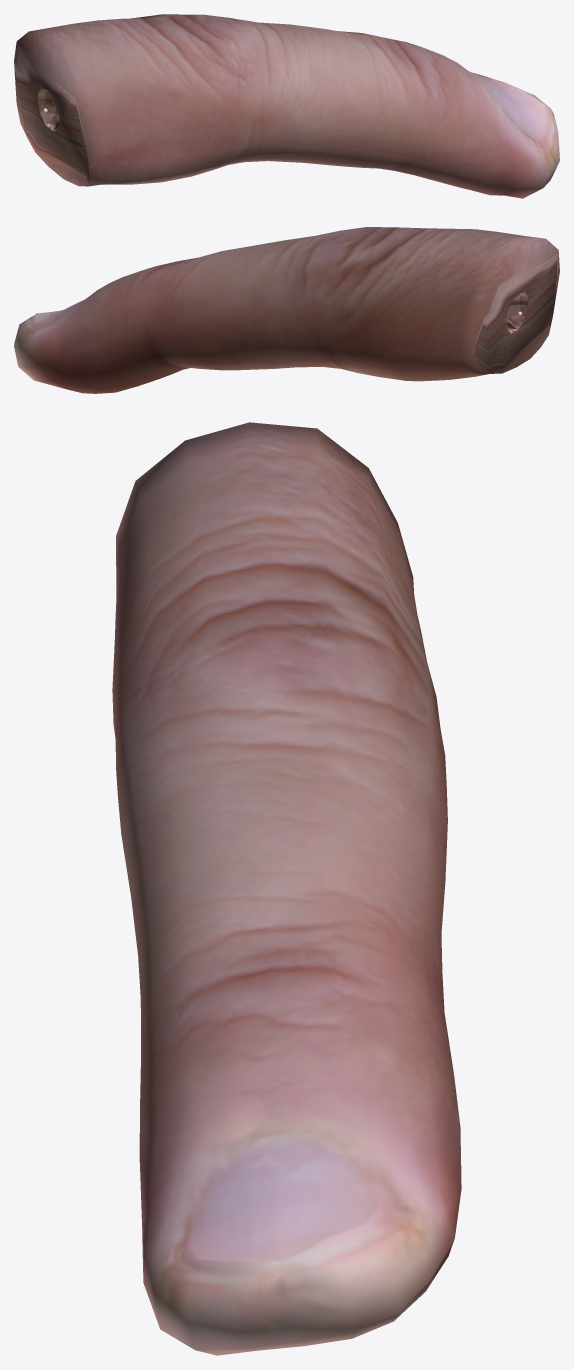
The picture shows the model from 3 angles, top to bottom: view 1: azimuth 30°, elevation 25°; view 2: azimuth 150°, elevation 25°; view 3: azimuth 270°, elevation 25°; orthographic projection. The views are drawn at different scales.
Visible parts, largest first — view 1: finger3; view 2: finger3; view 3: finger3.
Part boxes in pixels (x1,y1,x2,y2): finger3: (14,14,559,198); finger3: (14,227,559,393); finger3: (112,422,461,1355).
Size of the model in its own units: 2.87 by 1.36 by 0.8788.
1 material, 1 textured.
